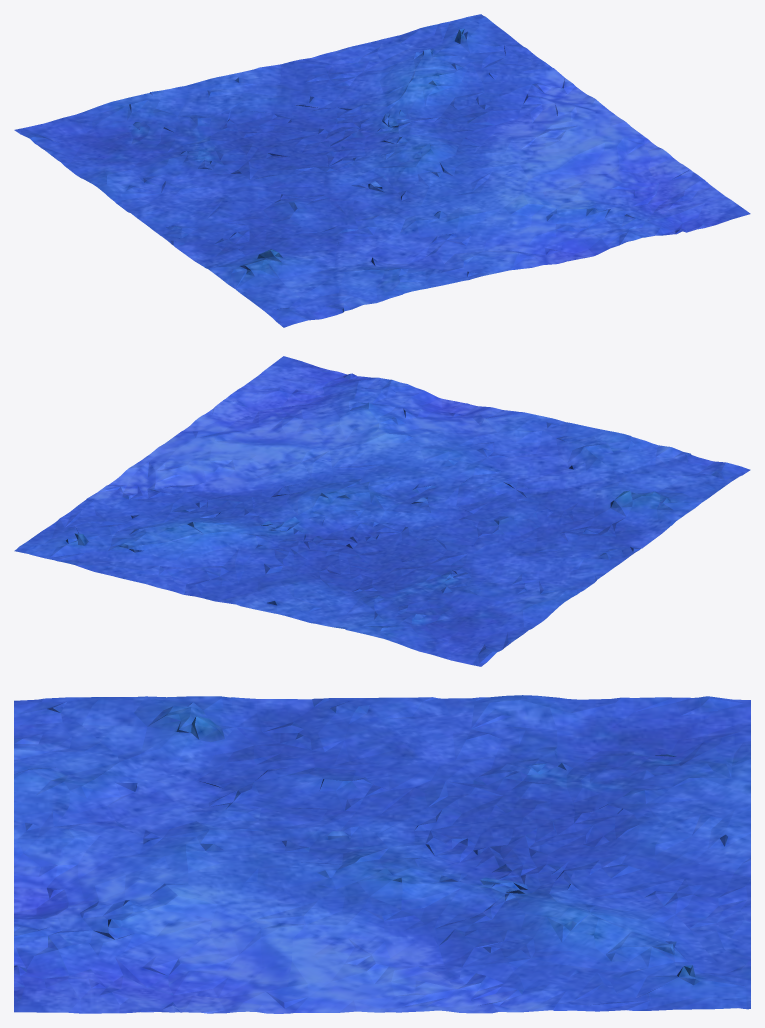
3 renders of one model, top to bottom at view 1: azimuth 30°, elevation 25°; view 2: azimuth 150°, elevation 25°; view 3: azimuth 270°, elevation 25°, orthographic. The views are drawn at different scales.
Size of the model in its own units: 26.11 by 1.07 by 26.11.
3 materials, 3 textured.
